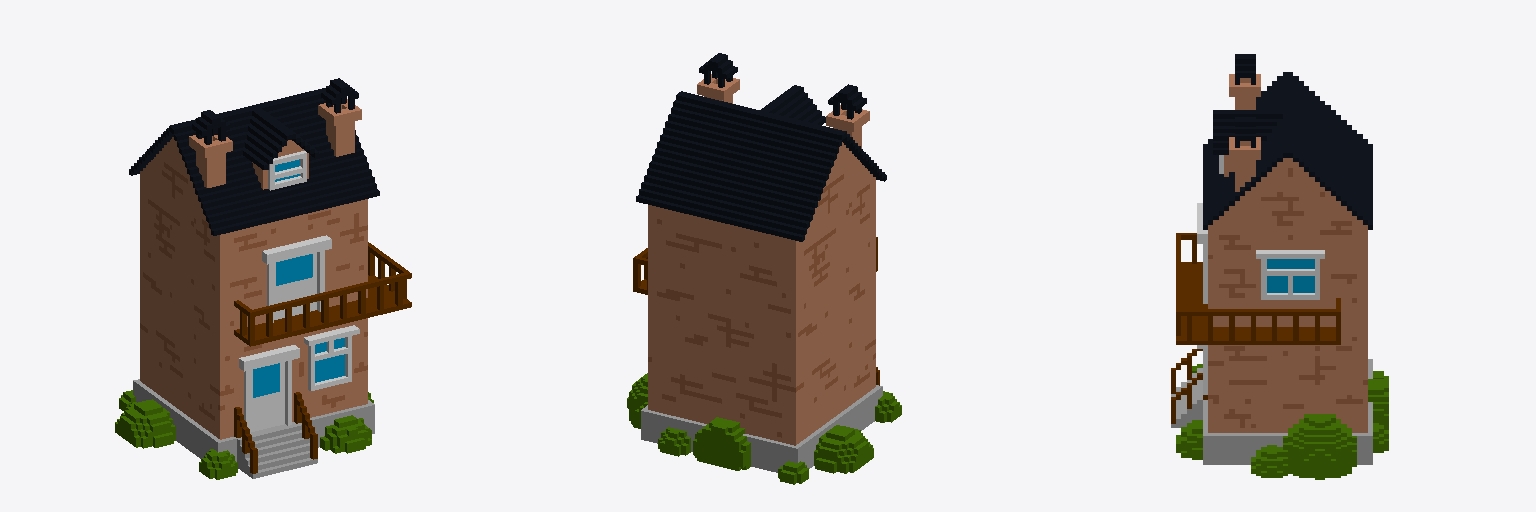
3 views of the same model, side by side, from view 1: azimuth 30°, elevation 25°; view 2: azimuth 150°, elevation 25°; view 3: azimuth 270°, elevation 25° (orthographic).
Parts seen in each view (by area): view 1: object 1; view 2: object 1; view 3: object 1.
Part boxes in pixels (left/top/right/bottom): object 1: left=115, top=78, right=411, bottom=479; object 1: left=627, top=53, right=901, bottom=484; object 1: left=1171, top=54, right=1388, bottom=479.
Bounding box in the file's own units: 4.9 × 7 × 4.1.
Materials: 1 (1 with a texture image).